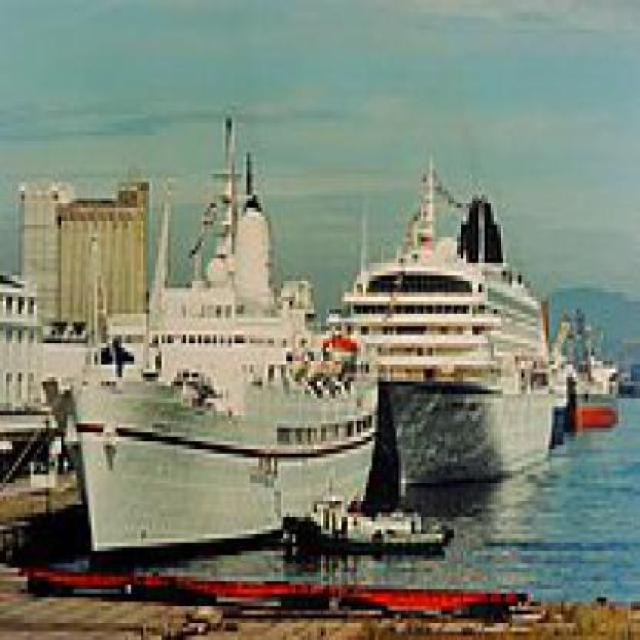cruise: (323, 149, 565, 489)
